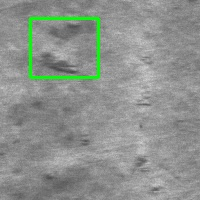rolled-in_scale: (30, 18, 98, 77)
